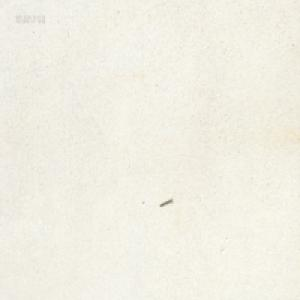Bolt: (158, 198, 172, 208)
